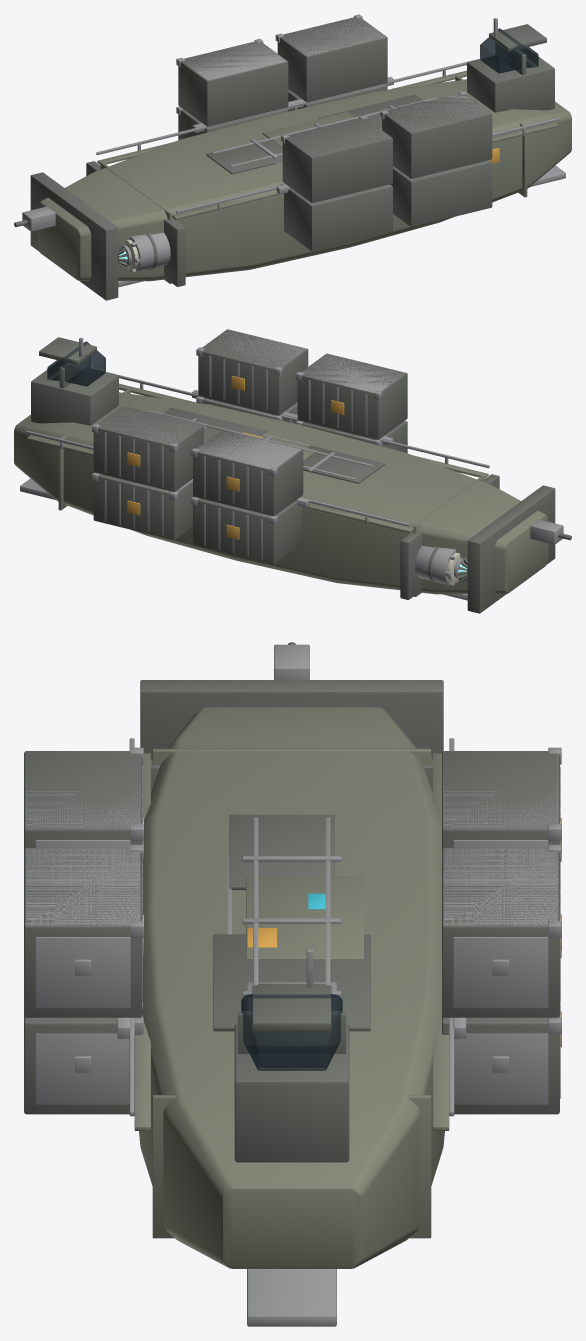
File: mule_production_v1_lod0.glb
3 views of the same model, one above another, from view 1: azimuth 30°, elevation 25°; view 2: azimuth 150°, elevation 25°; view 3: azimuth 270°, elevation 25° (orthographic). The views are drawn at different scales.
Parts seen in each view (by area): view 1: LOD0_Armor, LOD0_Hull, LOD0_Mechanical, LOD0_Canopy; view 2: LOD0_Armor, LOD0_Hull, LOD0_Mechanical, LOD0_Canopy, LOD0_Warning; view 3: LOD0_Hull, LOD0_Armor, LOD0_Mechanical, LOD0_Canopy.
Part boxes in pixels (bbox=[...]): LOD0_Armor: bbox=[14, 17, 554, 300]; LOD0_Hull: bbox=[37, 70, 571, 283]; LOD0_Mechanical: bbox=[22, 14, 565, 287]; LOD0_Canopy: bbox=[480, 28, 538, 73]; LOD0_Armor: bbox=[31, 329, 571, 613]; LOD0_Hull: bbox=[14, 383, 548, 596]; LOD0_Mechanical: bbox=[20, 330, 563, 600]; LOD0_Canopy: bbox=[47, 341, 105, 386]; LOD0_Warning: bbox=[127, 375, 344, 539]; LOD0_Hull: bbox=[134, 707, 449, 1268]; LOD0_Armor: bbox=[24, 642, 559, 1162]; LOD0_Mechanical: bbox=[26, 644, 561, 1326]; LOD0_Canopy: bbox=[241, 993, 342, 1070].
Size of what is drawn, in the model's own units: 15.23 by 4.36 by 6.56.
